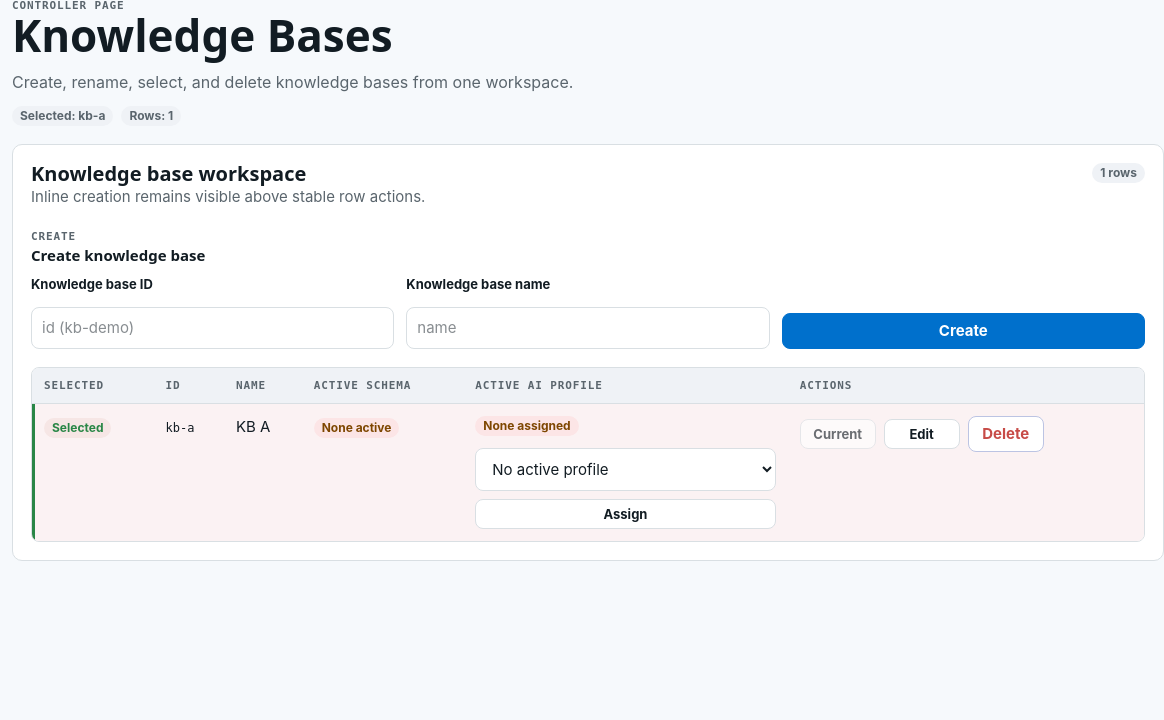
knowledge bases page › shows delete error alert when delete mutation fails
This screenshot has width=1164, height=720.
Click the button "Delete" at (1006, 434), box [968,416,1044,452]
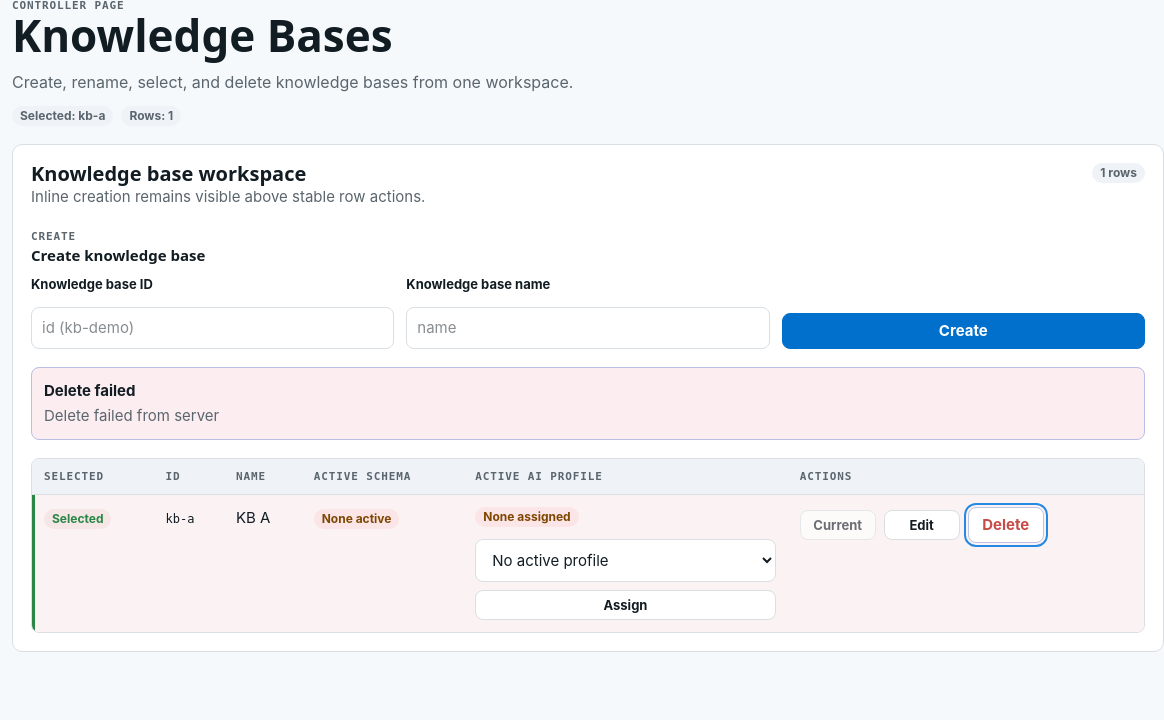
Result: the text "Delete failed" is shown at [44,382,136,400]
Result: the text "Delete failed from server" is shown at [44,406,219,425]
